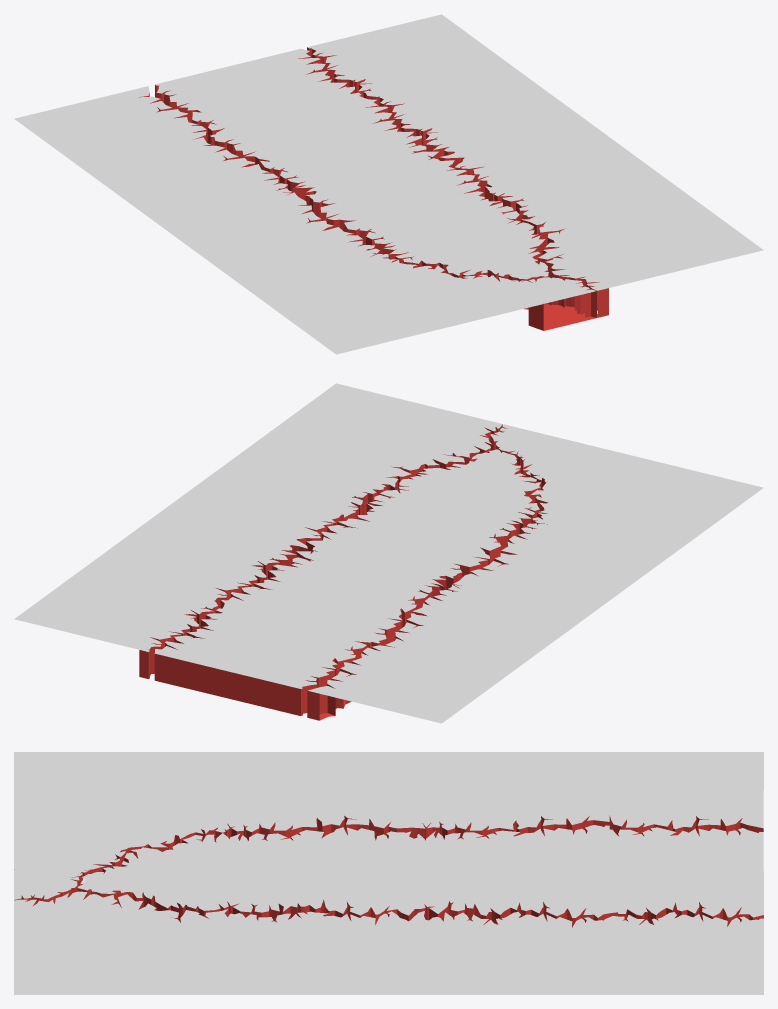
3 views of the same model, one above another, from view 1: azimuth 30°, elevation 25°; view 2: azimuth 150°, elevation 25°; view 3: azimuth 270°, elevation 25° (orthographic). The views are drawn at different scales.
Parts seen in each view (by area): view 1: 3, 2, 1; view 2: 3, 2, 1; view 3: 2, 3, 1.
Part boxes in pixels (<box>): 3: <box>307,14,763,317</box>; 2: <box>14,86,542,354</box>; 1: <box>155,48,596,330</box>; 3: <box>14,383,502,678</box>; 2: <box>307,437,763,723</box>; 1: <box>154,424,556,715</box>; 2: <box>14,752,763,891</box>; 3: <box>14,891,763,994</box>; 1: <box>14,825,763,926</box>.
Size of the model in its own units: 8263 by 509 by 10782.
